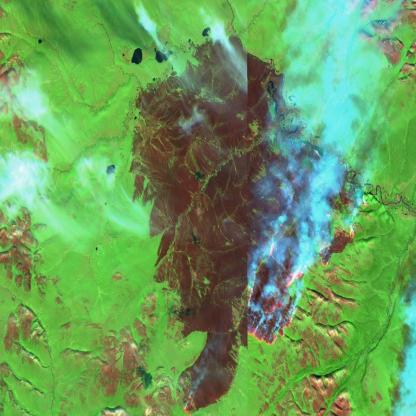fire: (245, 165, 370, 351)
